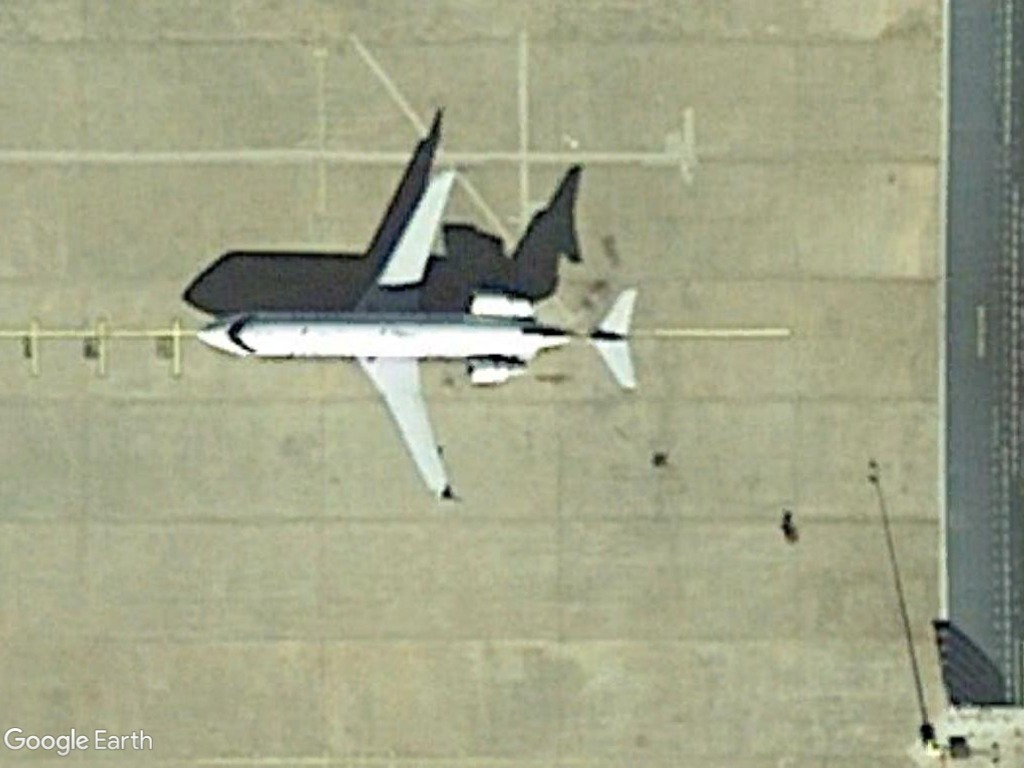chartered: (190, 162, 640, 515)
